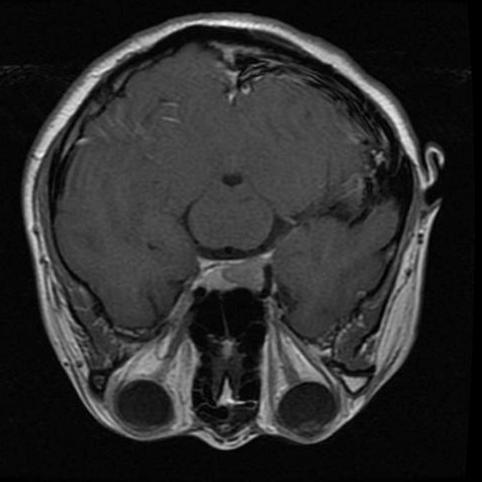Tumour-Pituitary: (184, 251, 286, 308)
